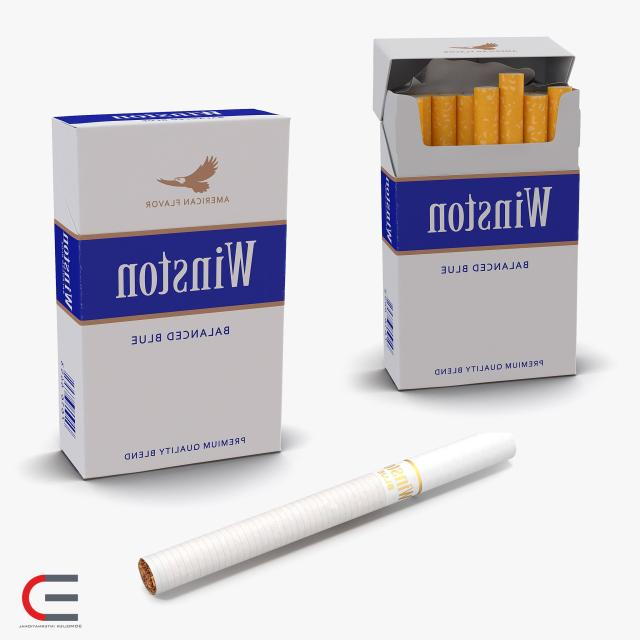winston: (49, 100, 301, 481), (376, 39, 584, 399)
